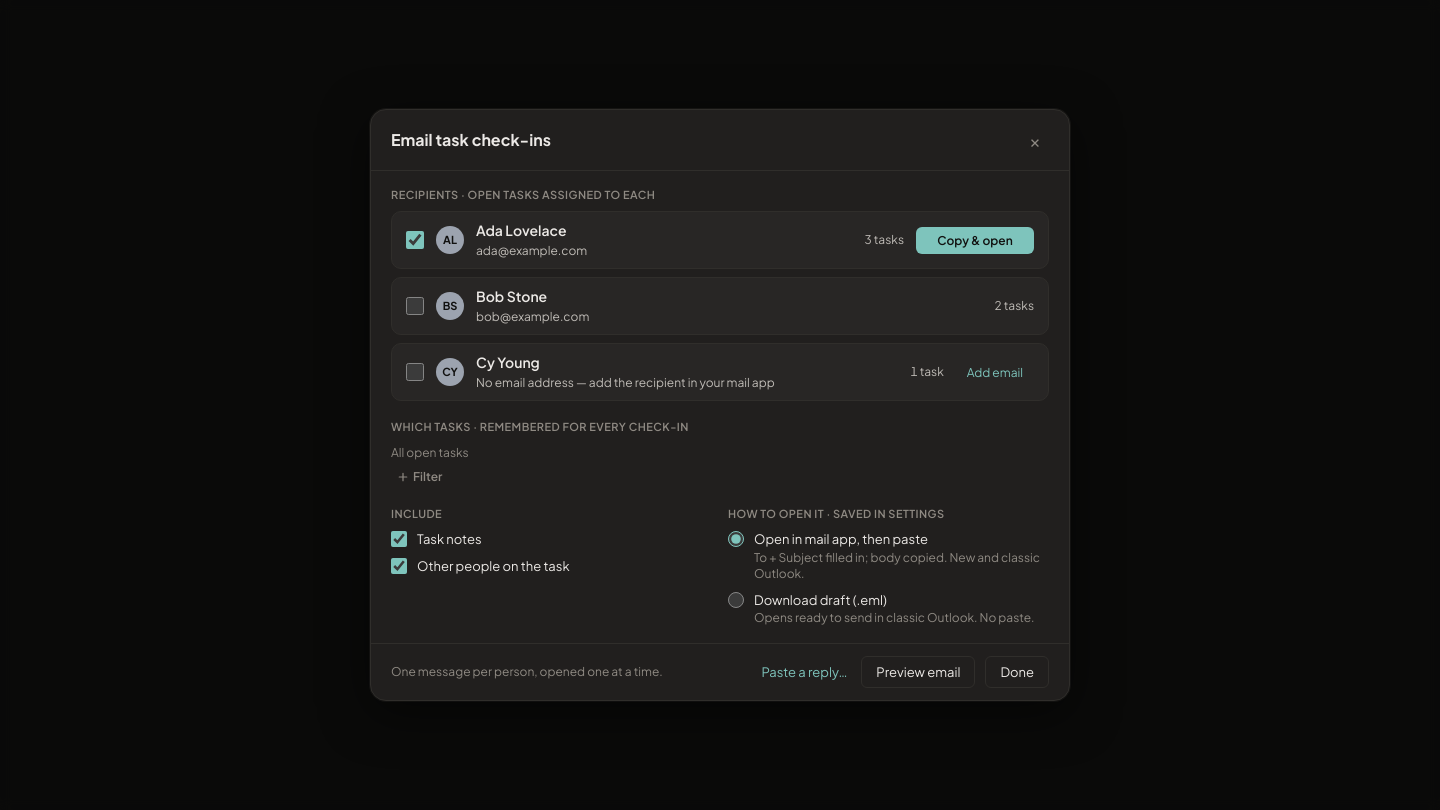
Test: CheckinDialog — Which tasks › is a filter line: no filter reads “All open tasks”; + Filter offers every field but People
This screenshot has width=1440, height=810.
Expected: the element with test id "checkin-filter" shows "All open tasks", [391,445,469,460]
Click the button "Filter" at (420, 477), box [391,466,448,488]
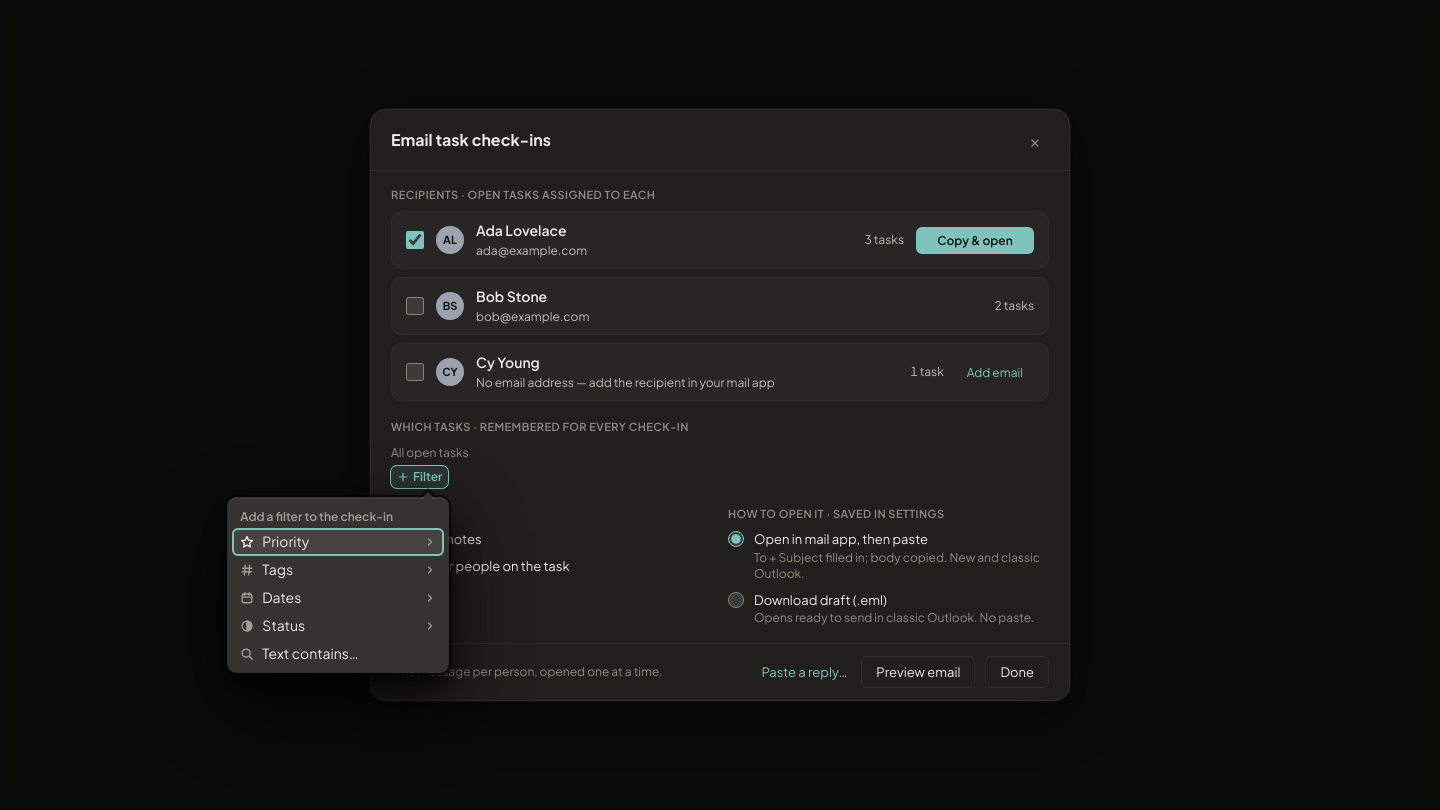
Expected: the menu items read "Priority", "Tags", "Dates", "Status", "Text contains…", in this order, [232,528,444,556]; [232,556,444,584]; [232,584,444,612]; [232,612,444,640]; [232,640,444,668]
